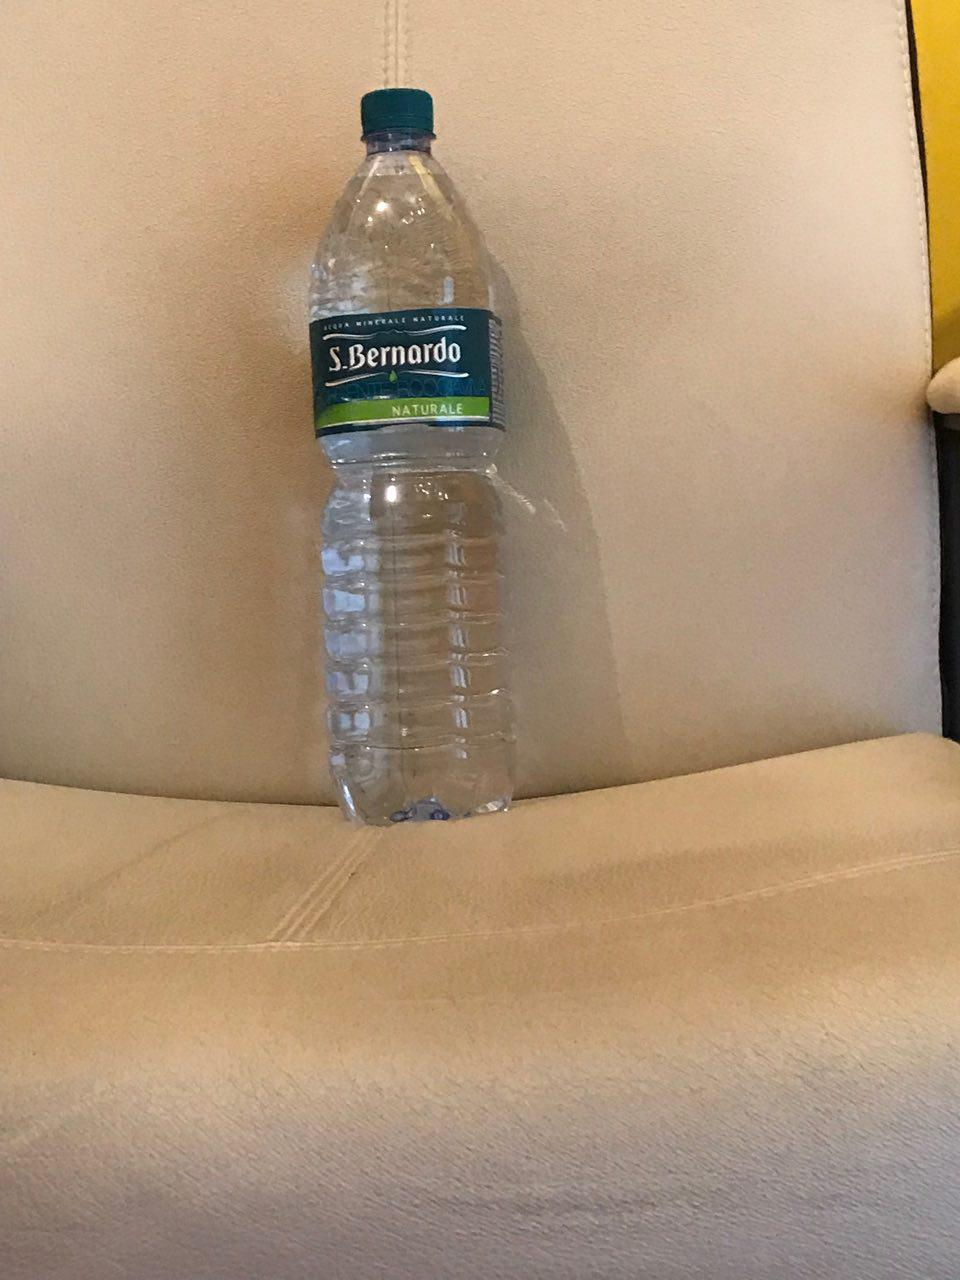san_bernardo: (308, 87, 520, 828)
